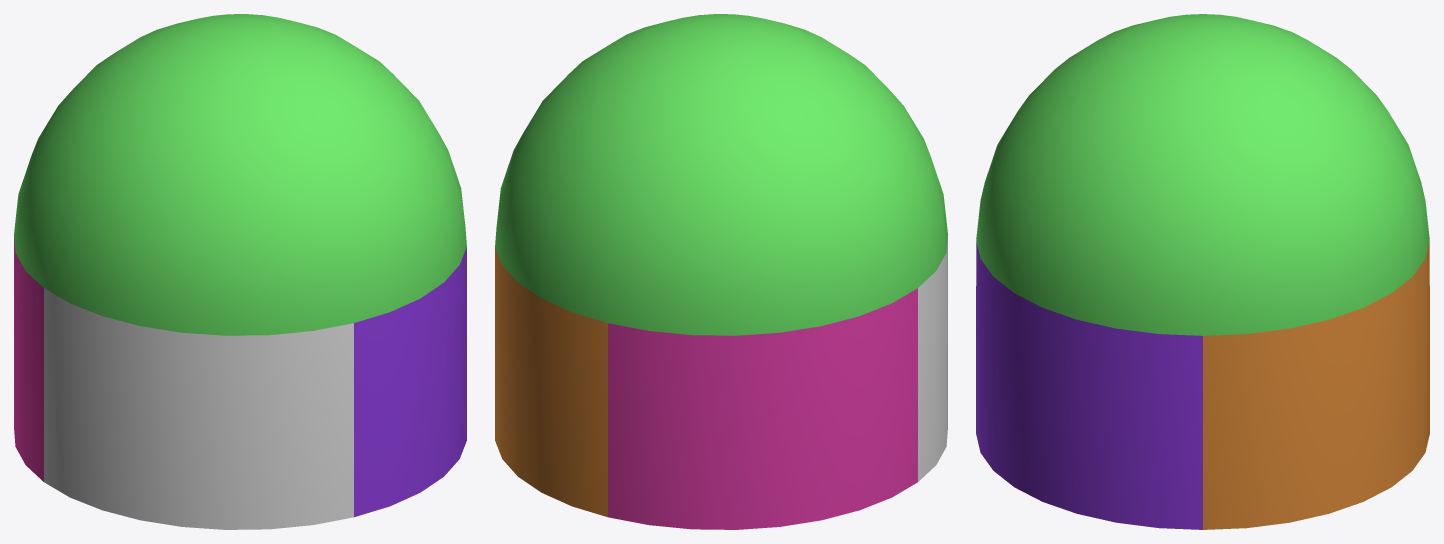
The model's file is BulidingDome.fbx.
The picture shows the model from 3 angles, left to right: view 1: azimuth 30°, elevation 25°; view 2: azimuth 150°, elevation 25°; view 3: azimuth 270°, elevation 25°; orthographic projection.
Visible parts, largest first — view 1: Cylinder; view 2: Cylinder; view 3: Cylinder.
Boxes of the visible parts, left/top/right/bottom form: Cylinder: left=14, top=14, right=466, bottom=529; Cylinder: left=495, top=14, right=947, bottom=529; Cylinder: left=976, top=14, right=1429, bottom=529.
Size of the model in its own units: 850 by 825 by 850.
